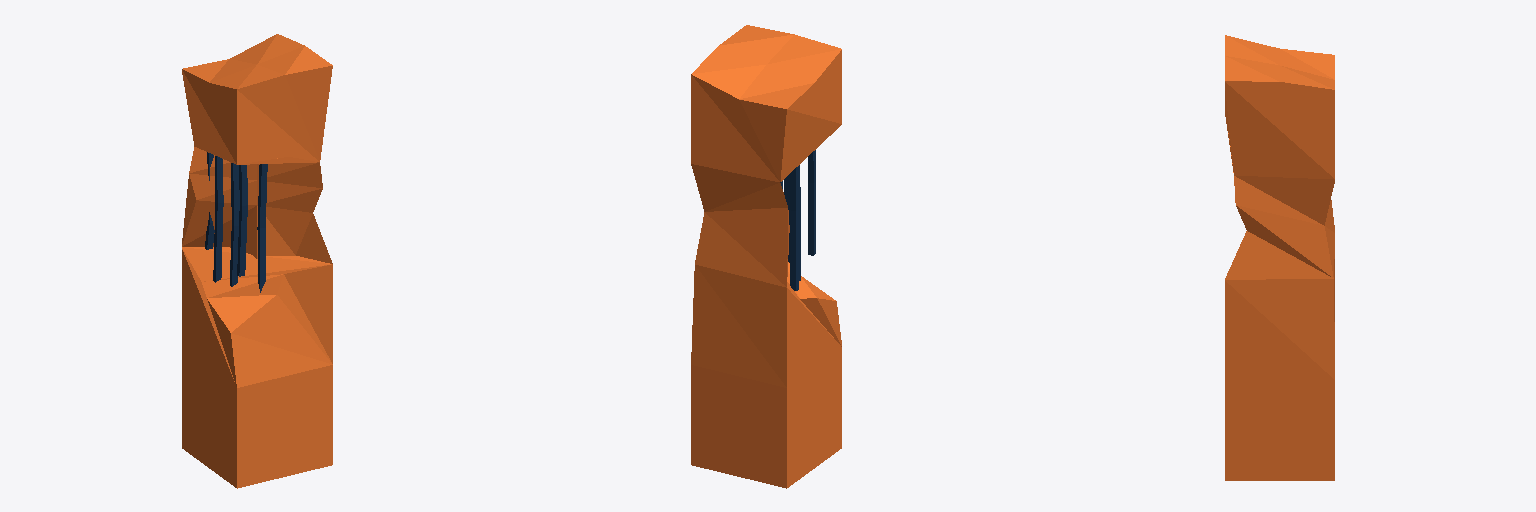
The model's file is broken_pillar.obj.
3 renders of one model, left to right at view 1: azimuth 30°, elevation 25°; view 2: azimuth 150°, elevation 25°; view 3: azimuth 270°, elevation 25°, orthographic.
Visible parts, largest first — view 1: broken_pillar; view 2: broken_pillar; view 3: broken_pillar.
Part boxes in pixels (bbox=[...]): broken_pillar: bbox=[182, 34, 332, 488]; broken_pillar: bbox=[691, 25, 841, 488]; broken_pillar: bbox=[1225, 35, 1334, 480].
Size of the model in its own units: 2.05 by 8 by 2.